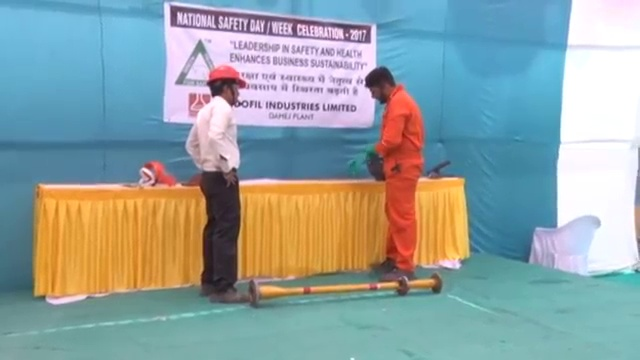helmet: (207, 64, 249, 90)
helmet_off: (364, 67, 397, 104)
helmet_on: (206, 66, 253, 108)
person: (186, 65, 251, 305), (363, 66, 426, 283)
